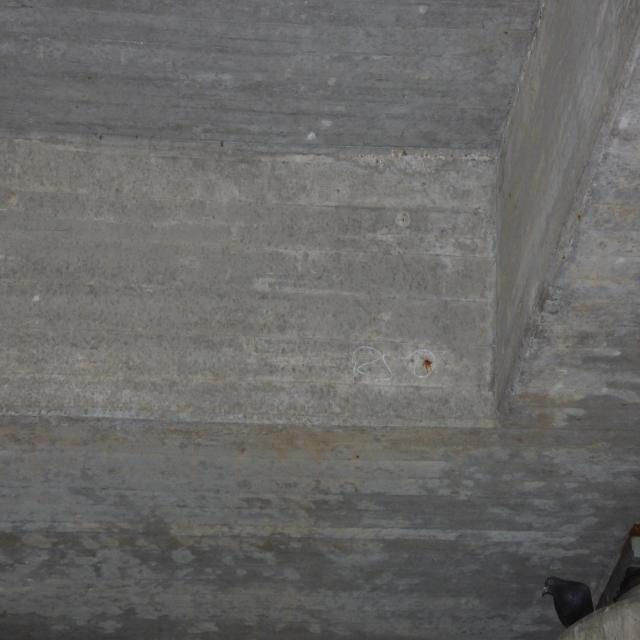corrosion: (422, 356, 434, 376), (344, 453, 361, 461)
